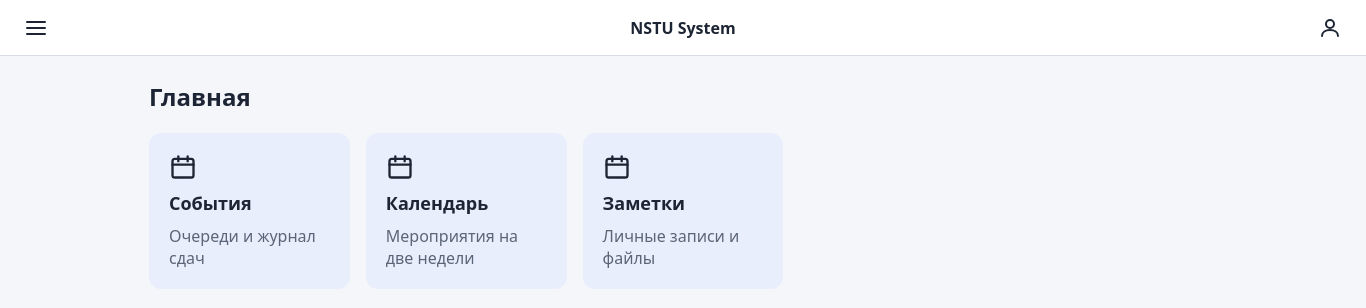
Test: оболочка интерфейса и иконка пользователя › иконка студента ведёт в профиль
Expected: the list with test id "module-grid" is shown, [149, 133, 783, 289]
Click the button named "Пользователь": (1330, 28) [1310, 8, 1350, 48]
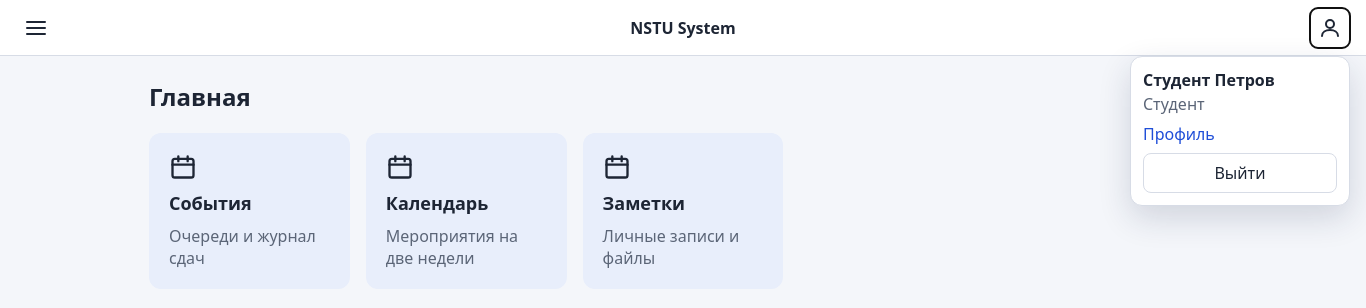
Click the link "Профиль": (1179, 134) [1143, 122, 1215, 144]
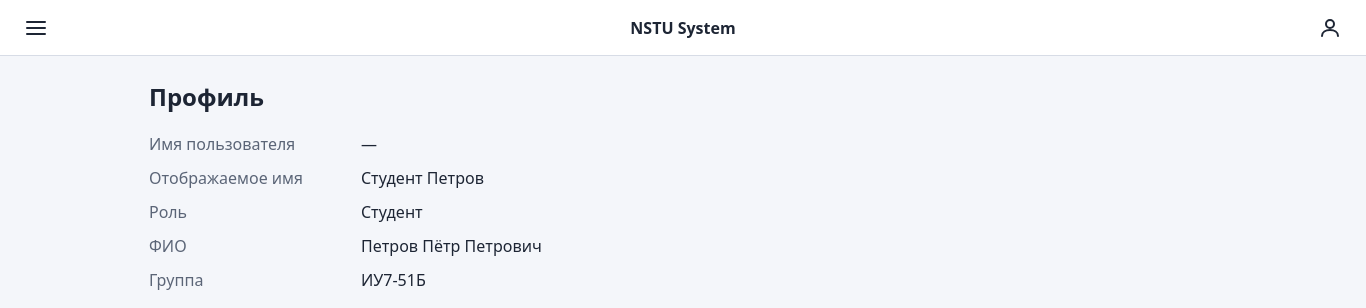
Now the heading "Профиль" is shown, box [149, 80, 264, 113]
Now the text "Петров Пётр Петрович" is shown, box [361, 235, 542, 257]
Now the text "ИУ7-51Б" is shown, box [361, 269, 426, 291]
